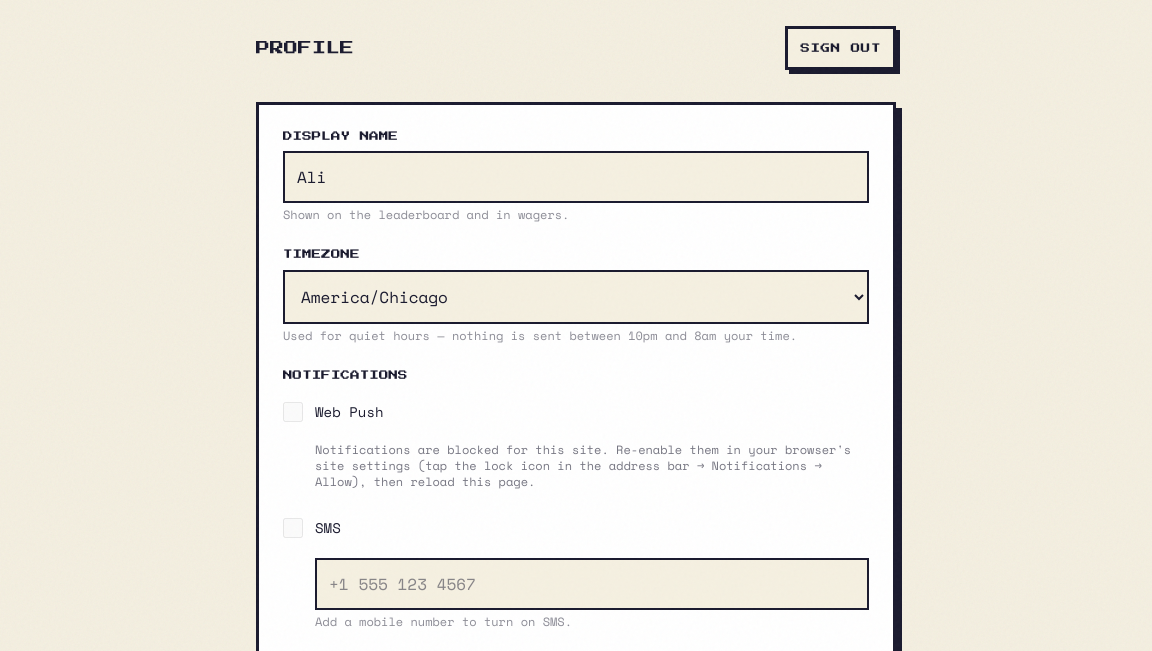
ProfileClient › keeps SMS disabled until the phone number is valid, then saves through the API
The image size is (1152, 651).
Expected: the checkbox labelled "SMS" is disabled, [283,518,303,538]
Type "(555) 123-4567" into the field named "phone number for sms" at [592, 584], box [315,558,869,610]
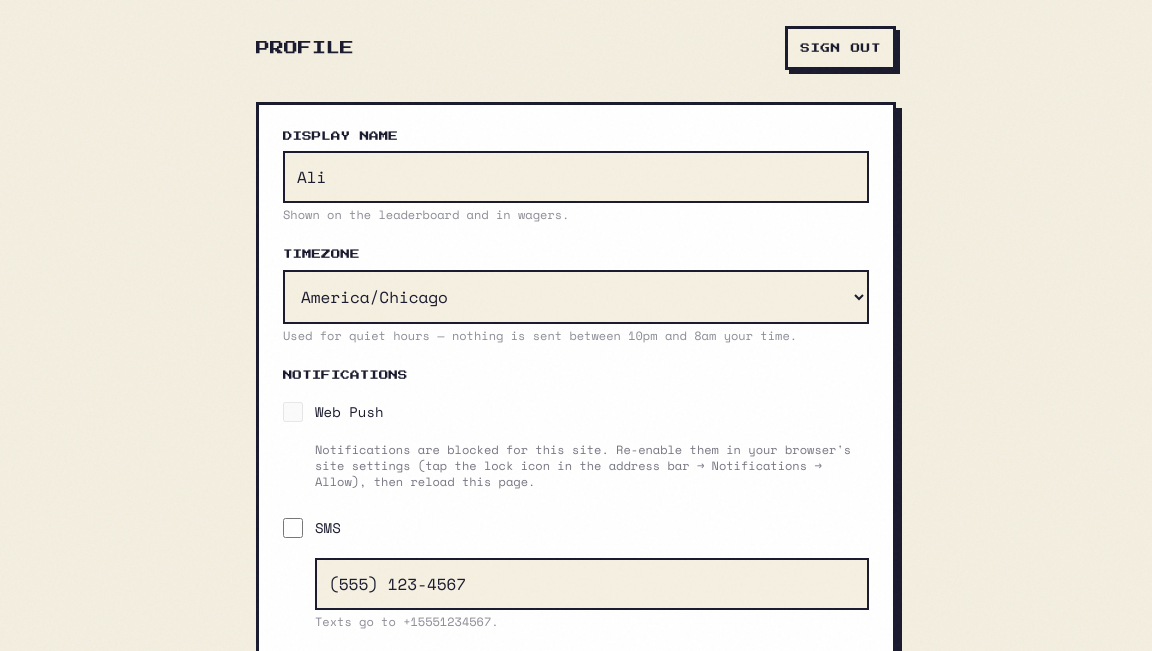
Now the checkbox labelled "SMS" is enabled
Now the text "Texts go to +15551234567." is shown, box [315,613,499,630]
Click the checkbox labelled "SMS" at [293, 528], box [283,518,303,538]
(page scrolled)
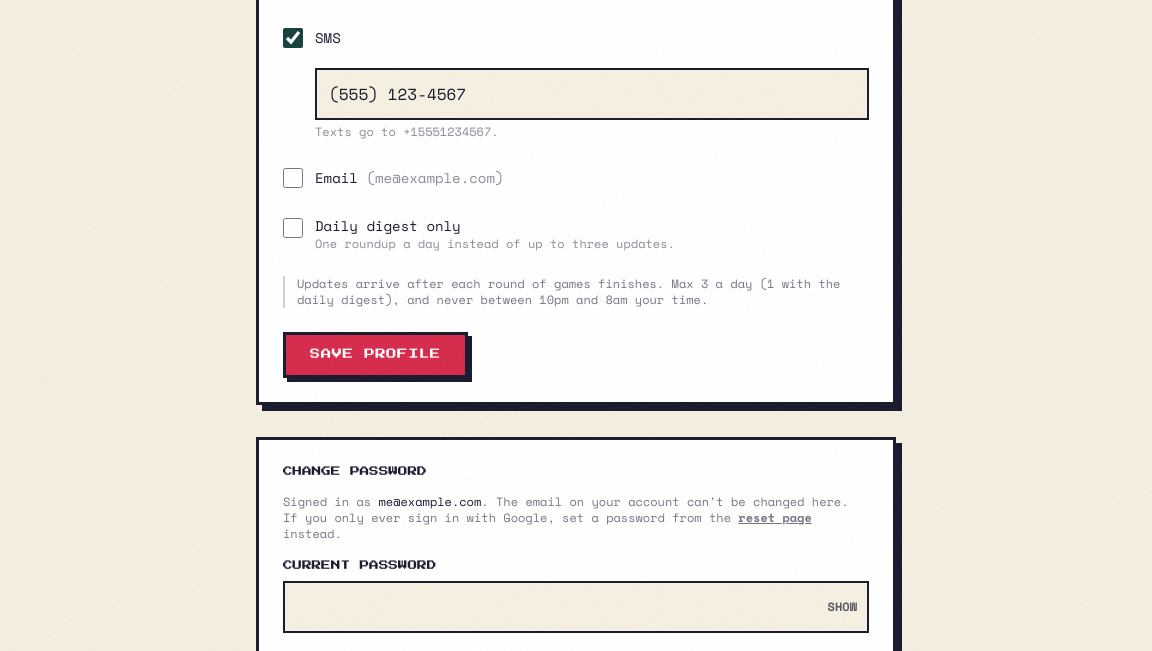
Click the button "Save Profile" at [375, 355], box [283,332,468,378]
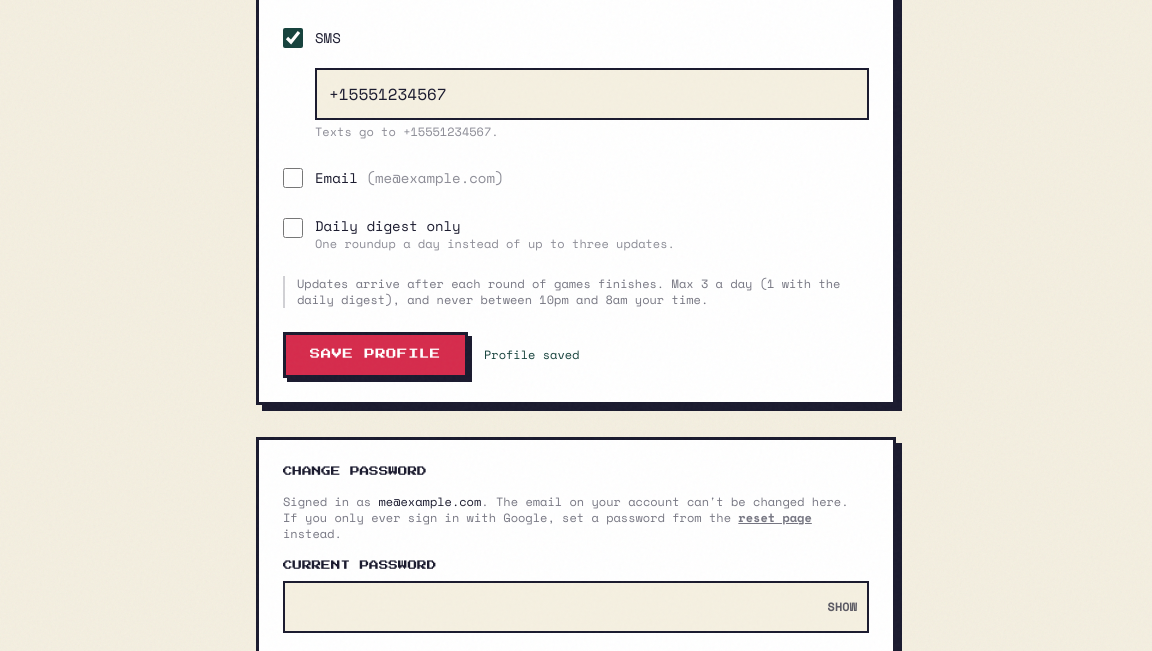
Now the message reads "Profile saved", box [484,346,579,363]
Now the field named "phone number for sms" holds "+15551234567", box [315,68,869,120]
